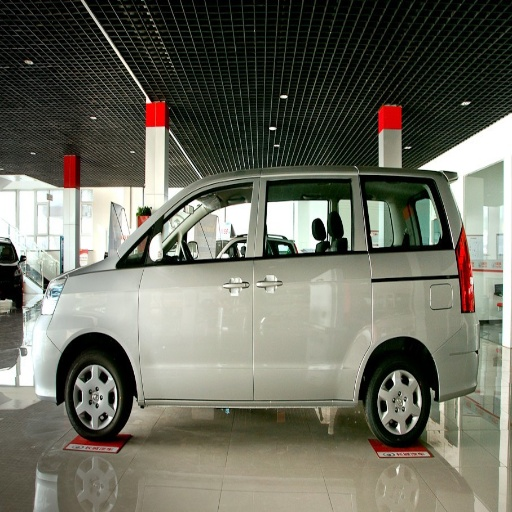back_left_door: (257, 176, 360, 394)
trunk: (325, 254, 471, 392)
